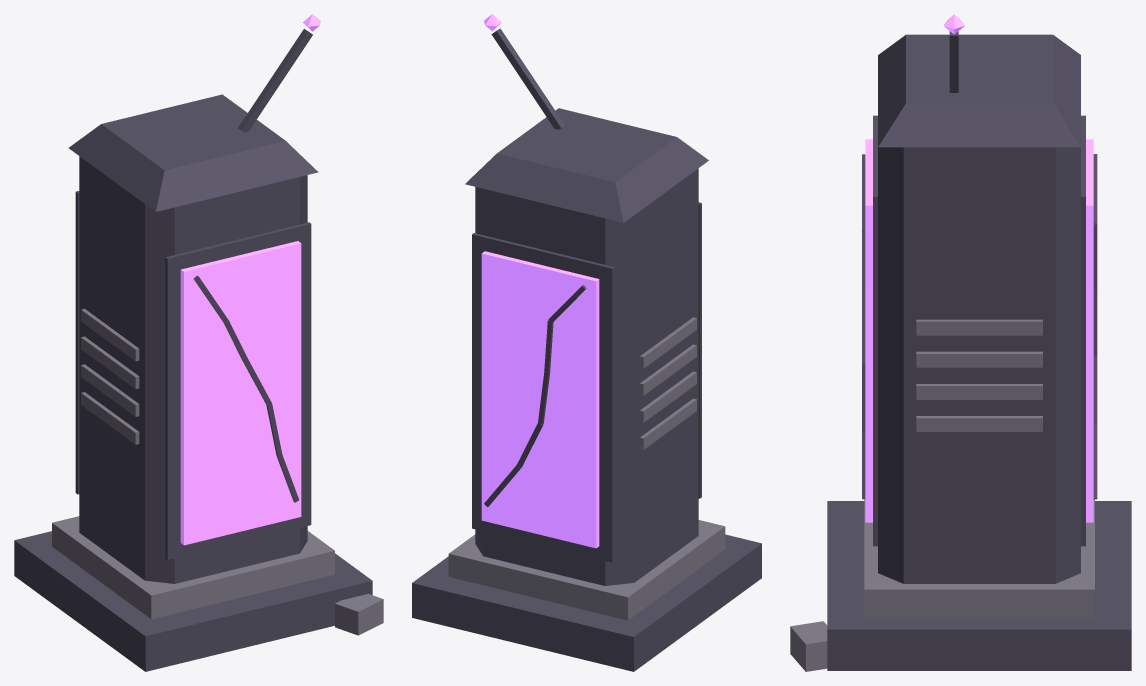
File: SignalKioskCracked.glb
3 renders of one model, left to right at view 1: azimuth 30°, elevation 25°; view 2: azimuth 150°, elevation 25°; view 3: azimuth 270°, elevation 25°, orthographic. The views are drawn at different scales.
Visible parts, largest first — view 1: housing, signal, base, cap, bezel (×2), trim, slat (×4), chip, antenna; view 2: housing, signal, base, cap, bezel (×2), trim, slat (×4), antenna; view 3: housing, base, cap, trim, slat (×4), signal (×2), bezel (×2), chip, antenna.
Part boxes in pixels (x1,y1,x2,y2): housing: (79, 156, 307, 583); signal: (180, 241, 301, 545); base: (14, 531, 372, 671); cap: (69, 94, 318, 211); bezel (×2): (75, 191, 311, 559); trim: (52, 516, 334, 619); slat (×4): (81, 308, 139, 444); chip: (335, 594, 383, 635); antenna: (238, 29, 312, 132); housing: (475, 168, 698, 585); signal: (481, 251, 599, 548); base: (412, 534, 761, 671); cap: (465, 108, 708, 222); bezel (×2): (472, 202, 701, 562); trim: (448, 520, 725, 620); slat (×4): (639, 317, 696, 449); antenna: (491, 28, 564, 129); housing: (878, 147, 1080, 583); base: (827, 501, 1131, 670); cap: (878, 34, 1080, 147); trim: (864, 499, 1094, 617); slat (×4): (916, 319, 1042, 431); signal (×2): (865, 139, 1093, 522); bezel (×2): (873, 115, 1085, 546); chip: (790, 621, 827, 671); antenna: (949, 31, 958, 92).
Bounding box in the file's own units: 1.22 × 2.85 × 1.35.
